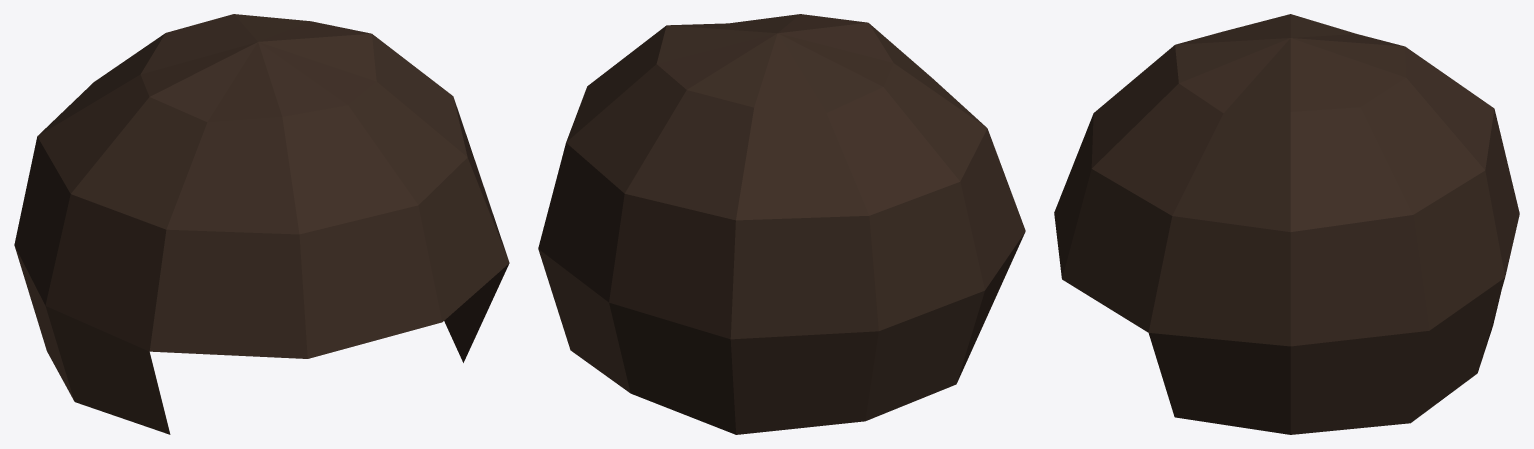
The model's file is afro.glb.
3 renders of one model, left to right at view 1: azimuth 30°, elevation 25°; view 2: azimuth 150°, elevation 25°; view 3: azimuth 270°, elevation 25°, orthographic. The views are drawn at different scales.
Visible parts, largest first — view 1: afro; view 2: afro; view 3: afro.
Boxes of the visible parts, x1,y1,x2,y2 form: afro: (14,14,509,434); afro: (538,14,1025,434); afro: (1054,14,1519,434).
Bounding box in the file's own units: 2.86 × 2.1 × 2.79.
Materials: 1 (1 with a texture image).
